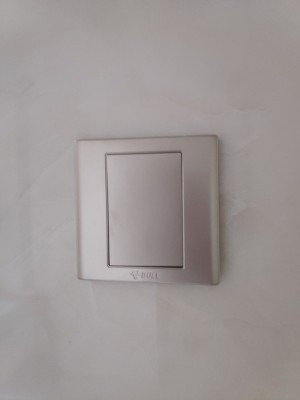switch: (101, 147, 194, 274)
